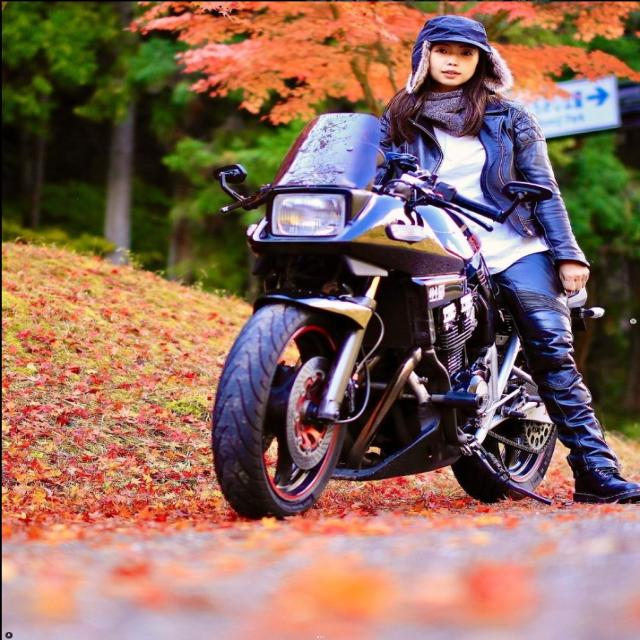illegal_helmet: (405, 11, 508, 101)
